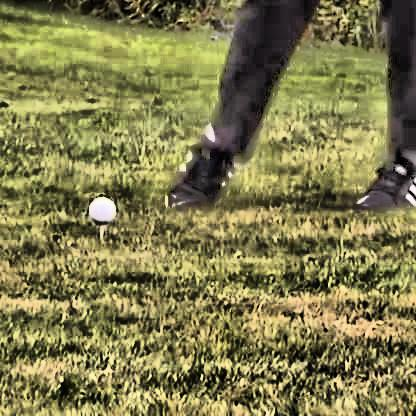golfball: (85, 194, 113, 222)
